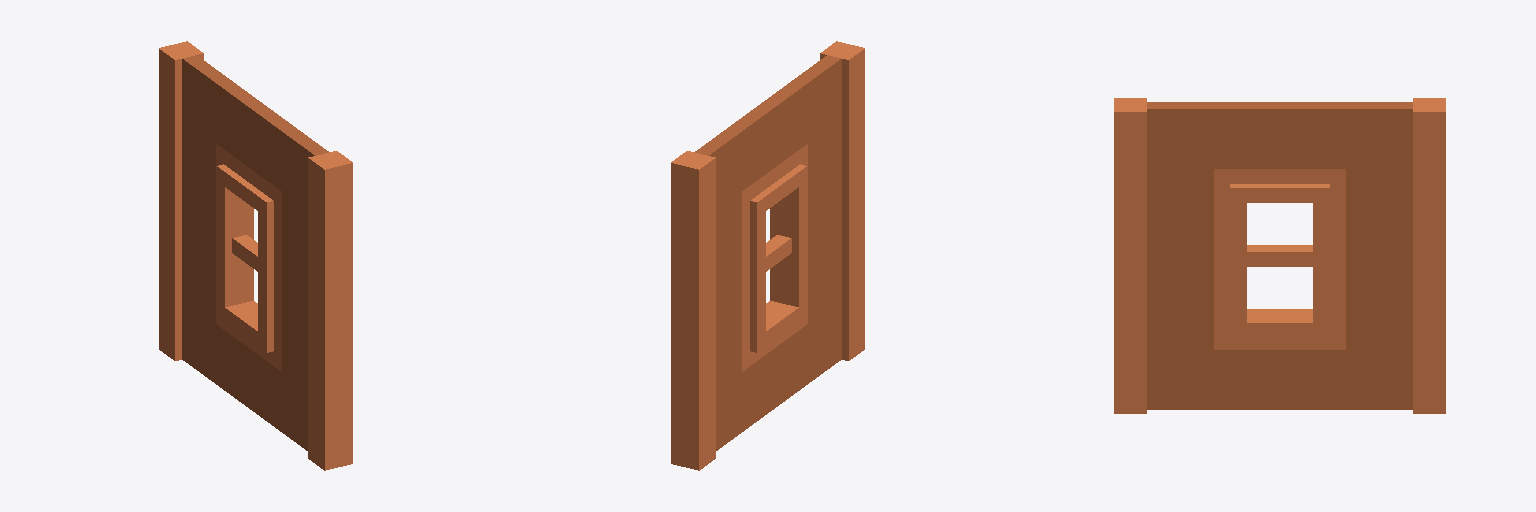
The model's file is wallWoodWindowGlass.obj.
3 renders of one model, left to right at view 1: azimuth 30°, elevation 25°; view 2: azimuth 150°, elevation 25°; view 3: azimuth 270°, elevation 25°, orthographic.
Visible parts, largest first — view 1: wallWoodWindowGlass; view 2: wallWoodWindowGlass; view 3: wallWoodWindowGlass.
Boxes of the visible parts, box(x1,y1,x2,y2) form: wallWoodWindowGlass: box(159, 41, 352, 470); wallWoodWindowGlass: box(671, 41, 864, 470); wallWoodWindowGlass: box(1114, 98, 1445, 413).
Size of the model in its own units: 0.1 by 1 by 1.